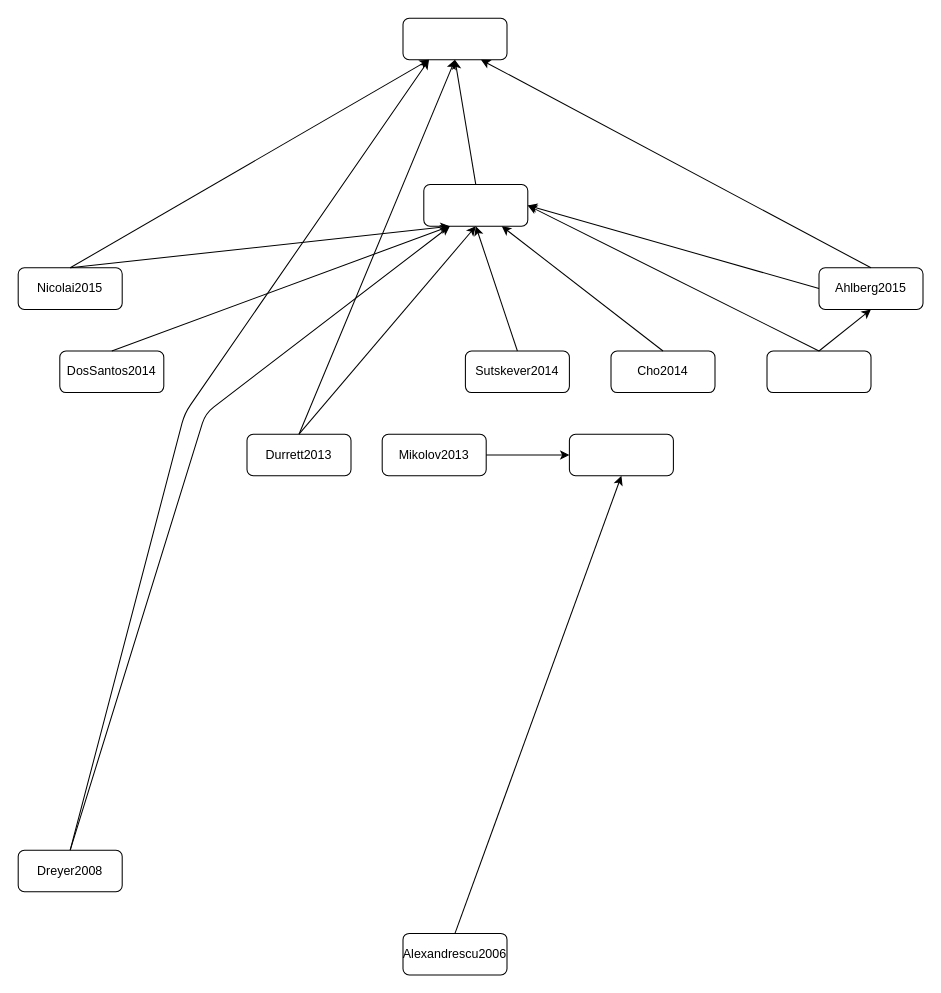
Some shapes in this 941 by 993 pixel diagram are drawn without their labels. Each missing label, with the centre of its shape:
"Faruqui2015" belongs at point (475, 205).
"Hulden2014" belongs at point (818, 371).
"Luong2013" belongs at point (620, 454).
"WolfSonkin2018" belongs at point (454, 38).
